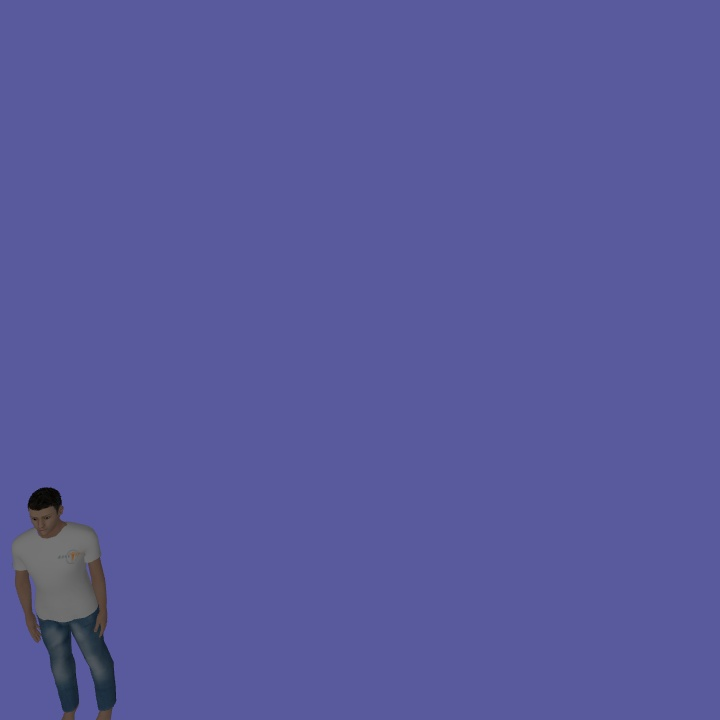victim: (9, 484, 120, 718)
